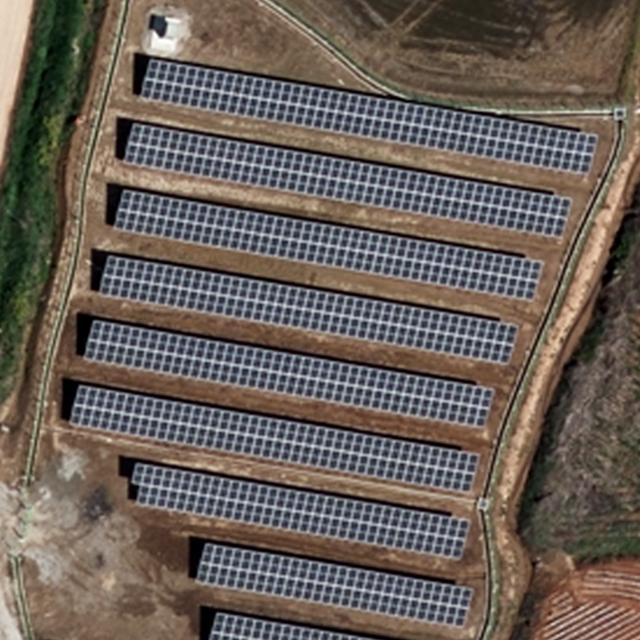panel: (135, 52, 600, 178), (122, 117, 574, 243), (111, 187, 547, 305), (92, 251, 523, 366), (82, 314, 495, 429), (65, 382, 481, 496), (126, 461, 474, 563), (191, 542, 475, 625), (203, 609, 378, 637)
